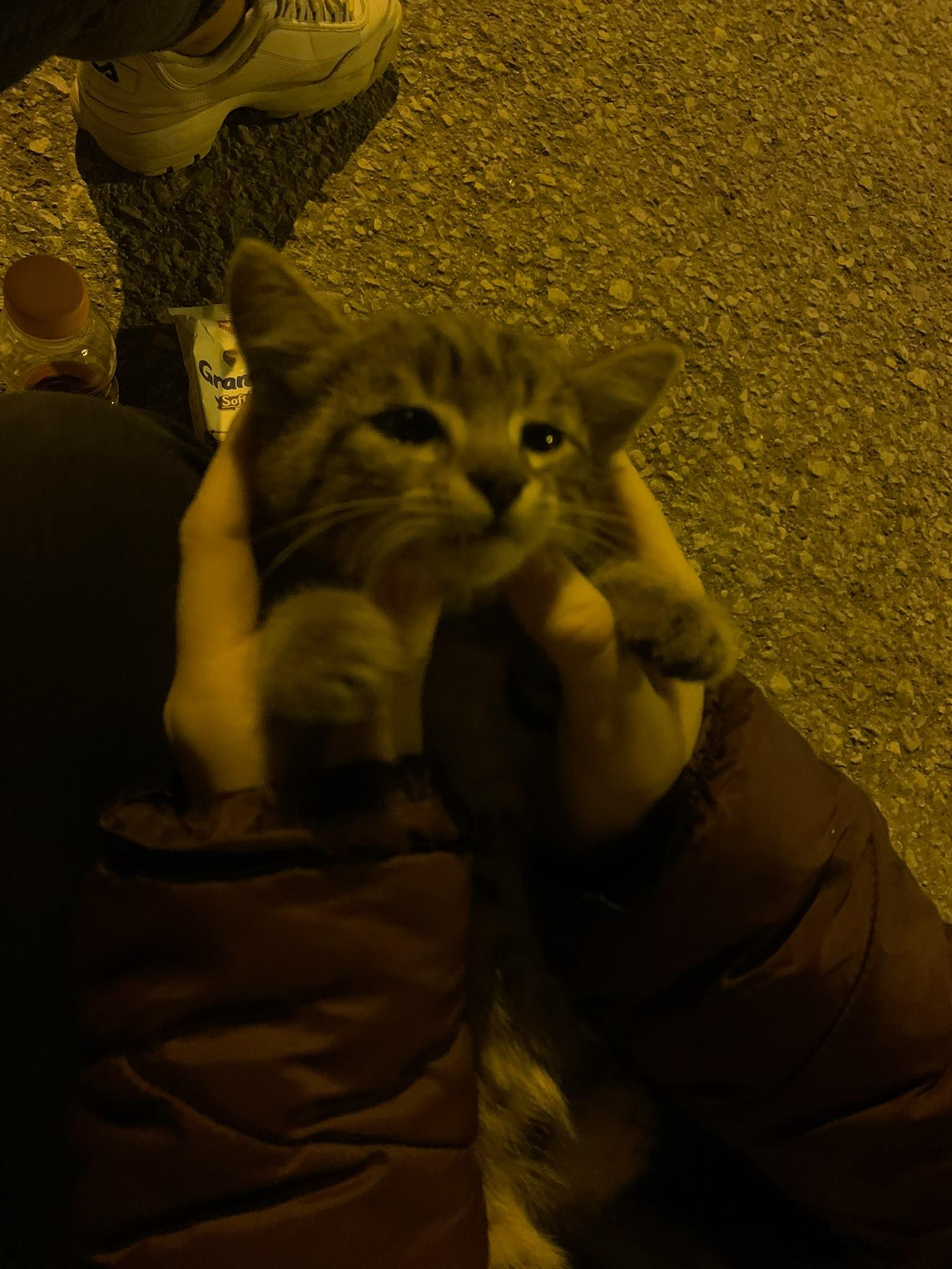macka: (230, 245, 743, 711)
